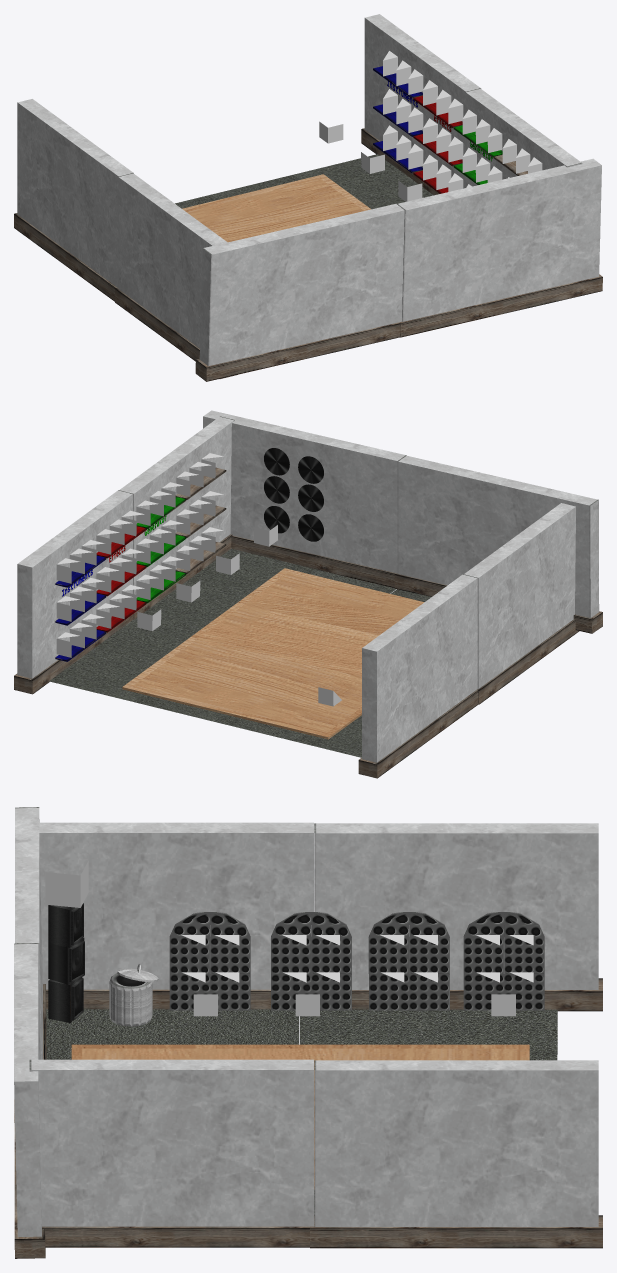
The model's file is large_music_shop.glb.
The picture shows the model from 3 angles, top to bottom: view 1: azimuth 30°, elevation 25°; view 2: azimuth 150°, elevation 25°; view 3: azimuth 270°, elevation 25°; orthographic projection. The views are drawn at different scales.
Parts seen in each view (by area): view 1: world; view 2: world; view 3: world, deleter.{}.001, display.{zone:pane8,kind:audiooutput}.005.
Part boxes in pixels (x1,y1,x2,y2): world: (14,14,602,381); world: (14,410,602,778); world: (14,807,602,1258); deleter.{}.001: (109,964,158,1026); display.{zone:pane8,kind:audiooutput}.005: (45,860,88,907).
Bounding box in the file's own units: 30.61 × 9.75 × 28.19.
2 materials, 2 textured.
